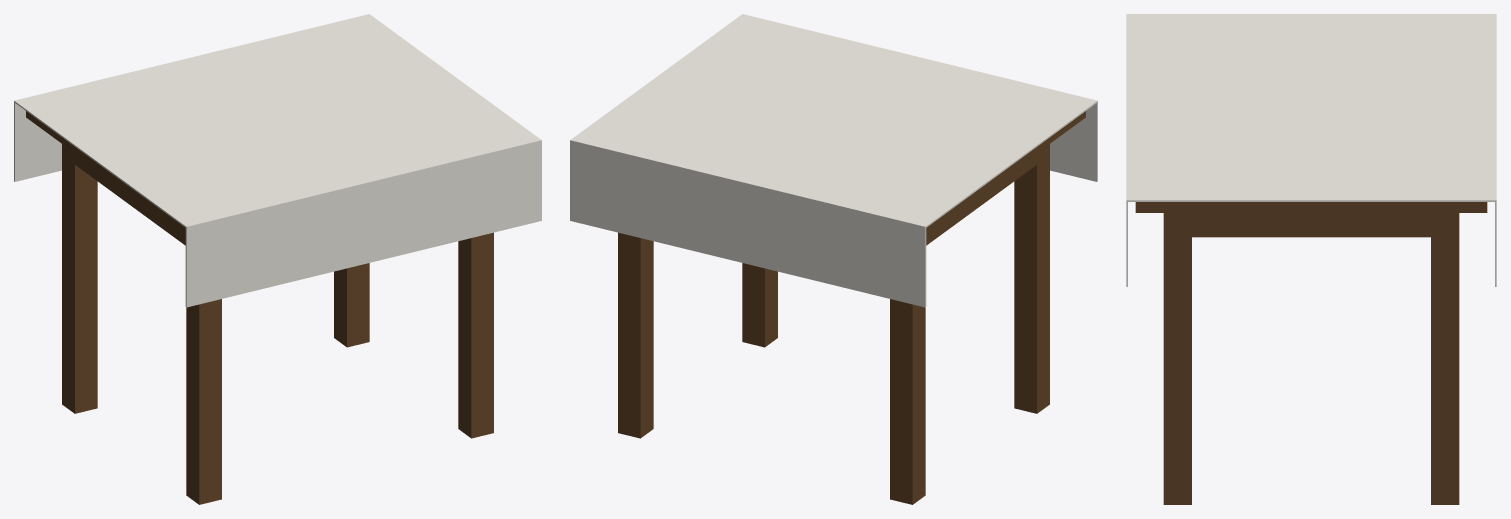
The picture shows the model from 3 angles, left to right: view 1: azimuth 30°, elevation 25°; view 2: azimuth 150°, elevation 25°; view 3: azimuth 270°, elevation 25°; orthographic projection. The views are drawn at different scales.
Visible parts, largest first — view 1: parametric-variant-table-1st-pub-0fb5b0fdad7d902f4baf; view 2: parametric-variant-table-1st-pub-0fb5b0fdad7d902f4baf; view 3: parametric-variant-table-1st-pub-0fb5b0fdad7d902f4baf.
Boxes of the visible parts, x1=… form: parametric-variant-table-1st-pub-0fb5b0fdad7d902f4baf: x1=14, y1=14, x2=541, y2=504; parametric-variant-table-1st-pub-0fb5b0fdad7d902f4baf: x1=570, y1=14, x2=1097, y2=504; parametric-variant-table-1st-pub-0fb5b0fdad7d902f4baf: x1=1126, y1=14, x2=1496, y2=504.
Bounding box in the file's own units: 0.94 × 0.754 × 0.79.
